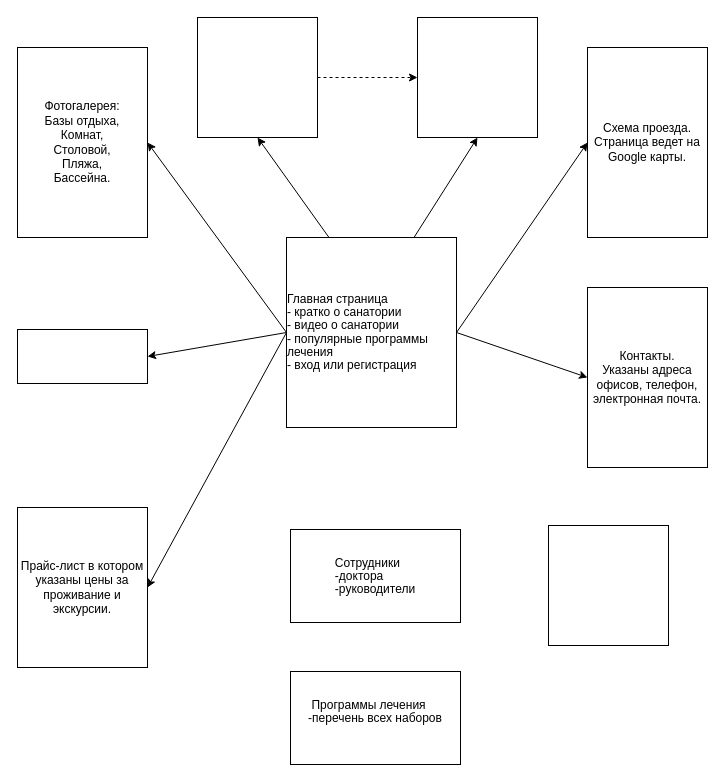
This 725x782 diagram has some shape labels left out. Here are the shapes that lost their labels. From the top down, the centre of each, then its label:
At [257,77]: "Регистрация.".
At [477,77]: "Личный кабинет.".
At [82,356]: "Отзывы посетивших санаторий.".
At [608,585]: "Страница заказа -выбор даты -выбор номера -выбор услуг или наборов -оплата".
